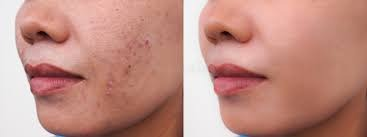Melasma: (92, 0, 189, 52)
